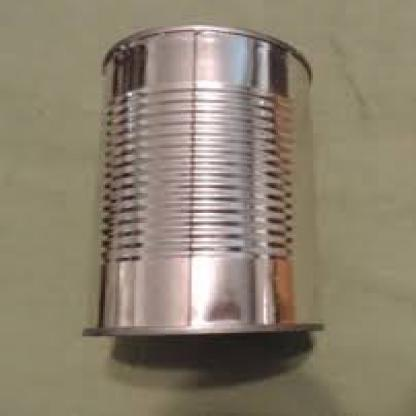METAL: (80, 20, 328, 338)
